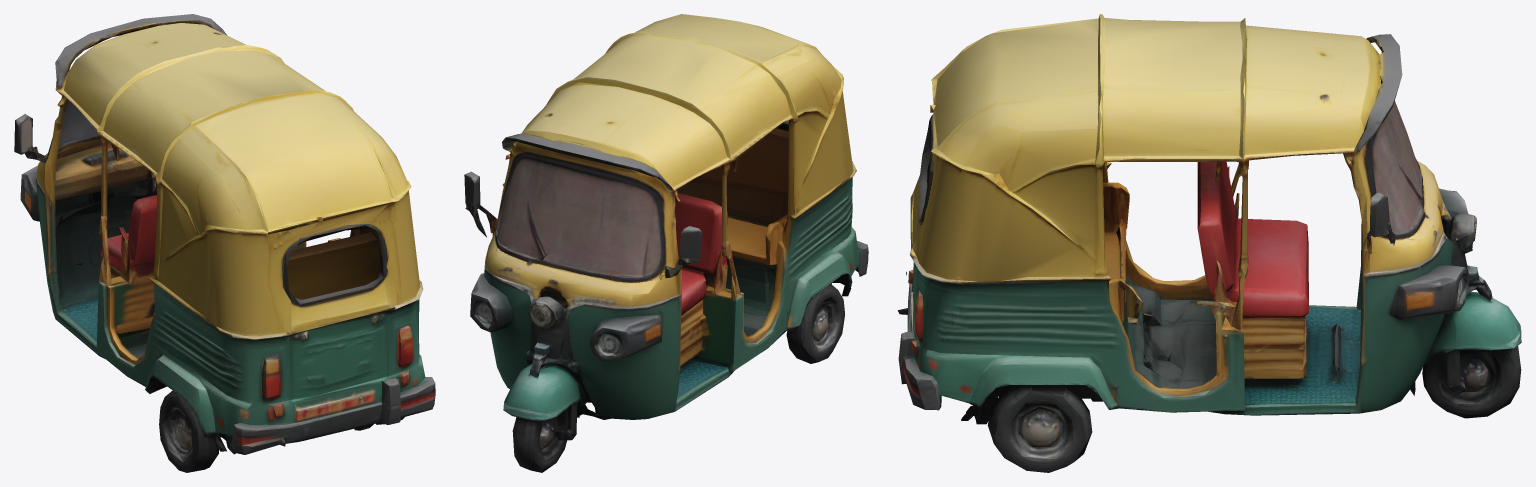
Rendered from Autorikshaw FBX.fbx.
3 renders of one model, left to right at view 1: azimuth 30°, elevation 25°; view 2: azimuth 150°, elevation 25°; view 3: azimuth 270°, elevation 25°, orthographic. The views are drawn at different scales.
Visible parts, largest first — view 1: Autorickshaw; view 2: Autorickshaw; view 3: Autorickshaw.
Part boxes in pixels (x1,y1,x2,y2): Autorickshaw: (14,14,435,472); Autorickshaw: (464,14,868,472); Autorickshaw: (897,14,1521,472).
Bounding box in the file's own units: 51.6 × 65.65 × 99.31.
Materials: 1 (1 with a texture image).
